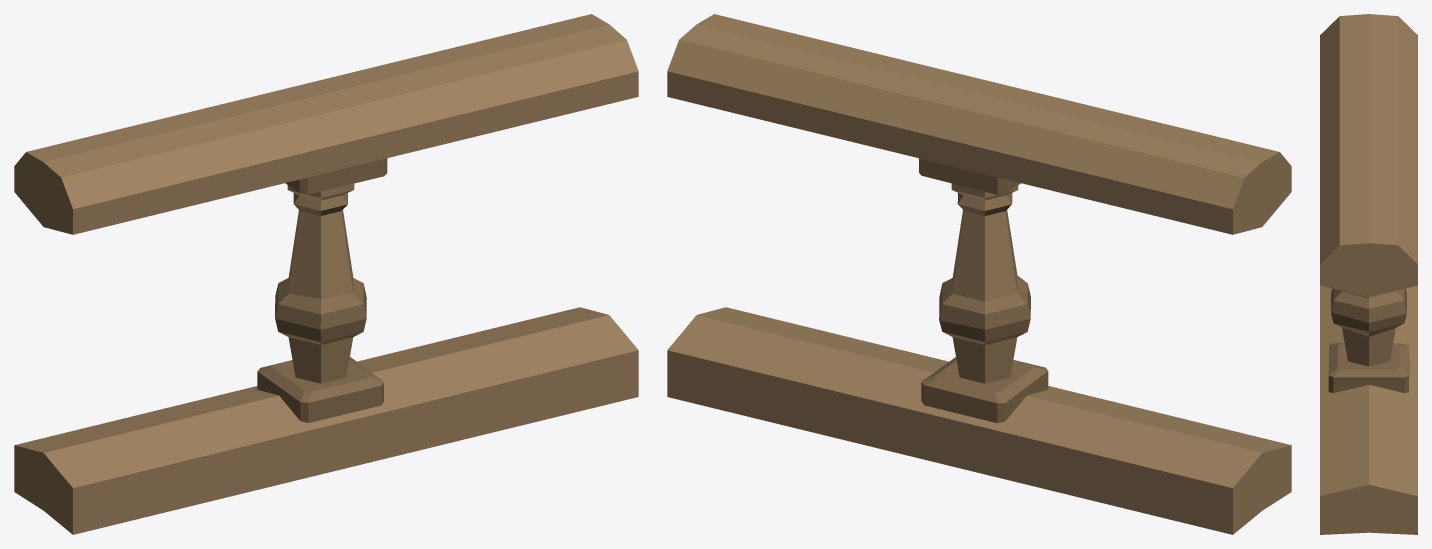
The model's file is SM_Bld_Railing_Manor_01_Half_01.fbx.
3 renders of one model, left to right at view 1: azimuth 30°, elevation 25°; view 2: azimuth 150°, elevation 25°; view 3: azimuth 270°, elevation 25°, orthographic. The views are drawn at different scales.
Parts seen in each view (by area): view 1: SM_Bld_Railing_Manor_01_Half_01; view 2: SM_Bld_Railing_Manor_01_Half_01; view 3: SM_Bld_Railing_Manor_01_Half_01.
Part boxes in pixels (x1=…): SM_Bld_Railing_Manor_01_Half_01: x1=14, y1=14, x2=638, y2=534; SM_Bld_Railing_Manor_01_Half_01: x1=667, y1=14, x2=1291, y2=534; SM_Bld_Railing_Manor_01_Half_01: x1=1320, y1=14, x2=1417, y2=534.
Size of the model in its own units: 125 by 74.14 by 22.5.
